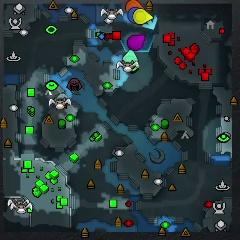p1: (128, 7, 142, 25)
p2: (122, 50, 139, 73)
p3: (128, 34, 146, 51)
p4: (133, 9, 152, 24)
p5: (125, 0, 144, 13)
x3: (143, 15, 157, 29)
